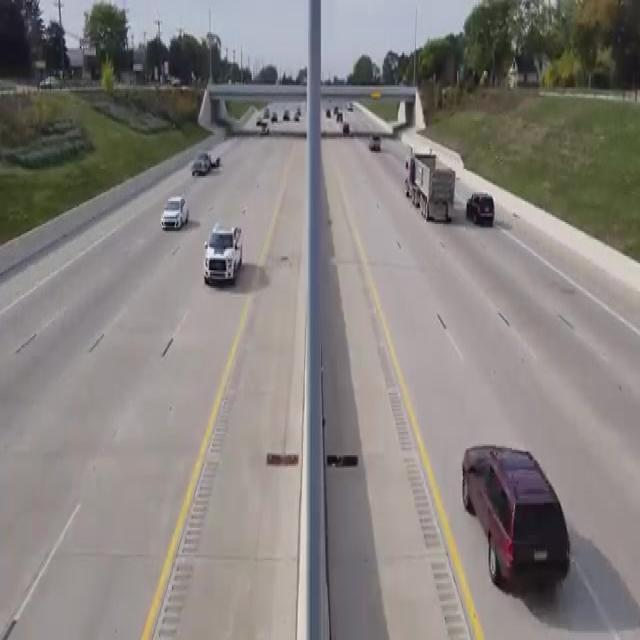car: (456, 438, 576, 608), (204, 216, 250, 323), (158, 184, 187, 242), (466, 190, 504, 232), (190, 152, 216, 182), (368, 122, 387, 160)
truck: (401, 137, 460, 231)
